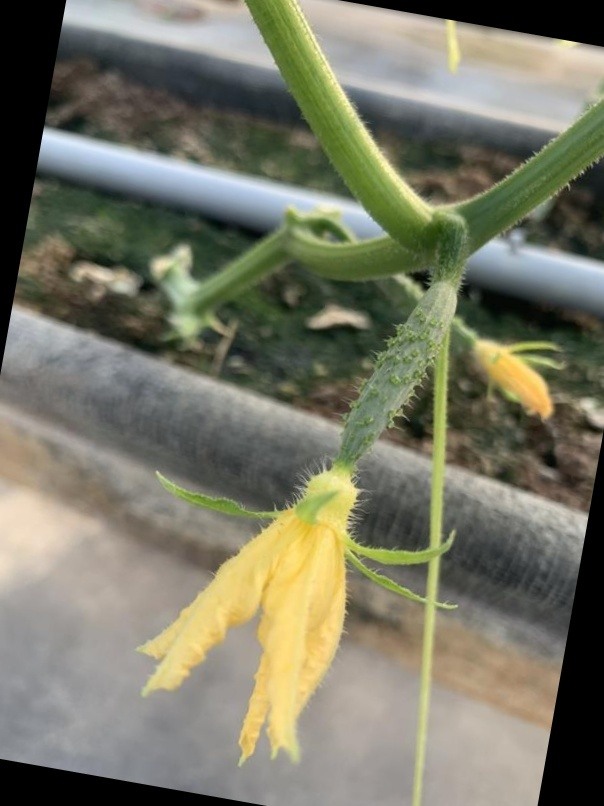bear: (136, 250, 475, 759)
